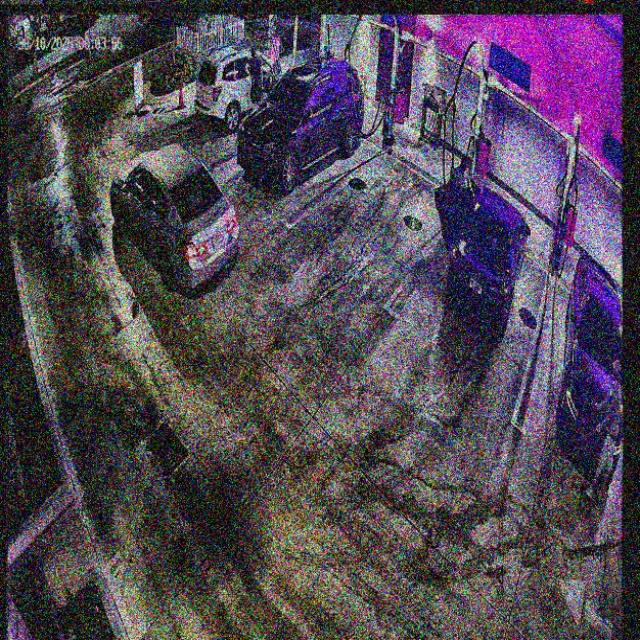Car: (108, 144, 241, 292), (234, 52, 362, 194), (439, 163, 530, 340)
